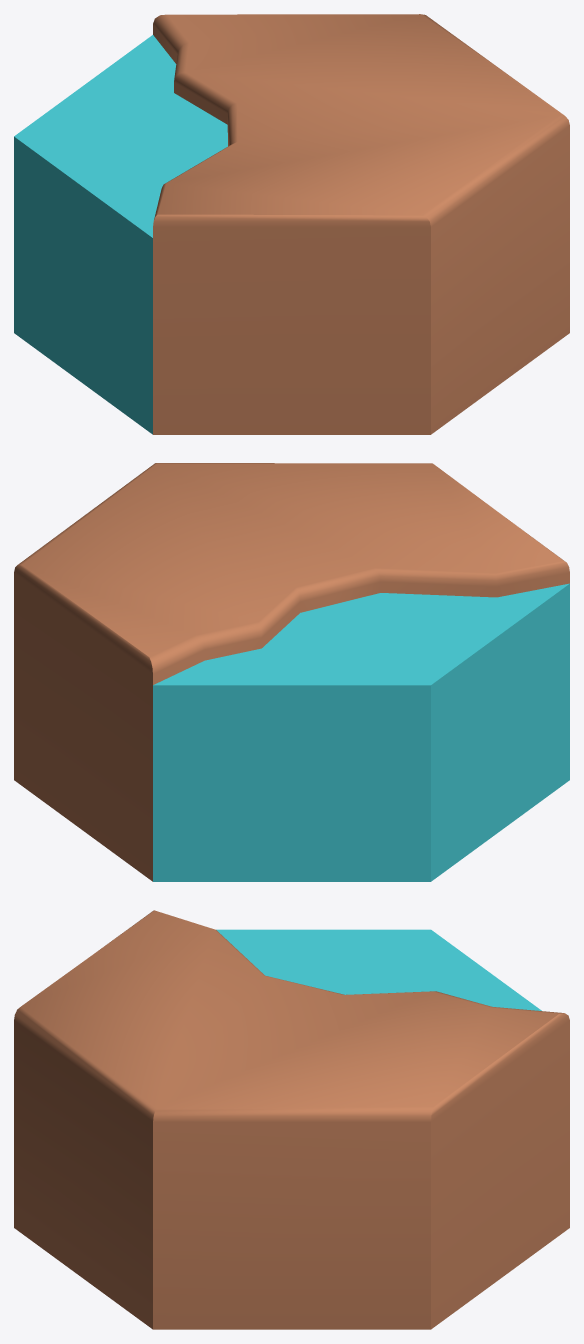
File: hex_rock_waterD.glb
3 renders of one model, top to bottom at view 1: azimuth 30°, elevation 25°; view 2: azimuth 150°, elevation 25°; view 3: azimuth 270°, elevation 25°, orthographic.
Parts seen in each view (by area): view 1: hex_rock_waterD; view 2: hex_rock_waterD; view 3: hex_rock_waterD.
Boxes of the visible parts, x1,y1,x2,y2 form: hex_rock_waterD: (14, 14, 569, 434); hex_rock_waterD: (14, 463, 569, 881); hex_rock_waterD: (14, 910, 569, 1329).
Size of the model in its own units: 2 by 1 by 2.31.
